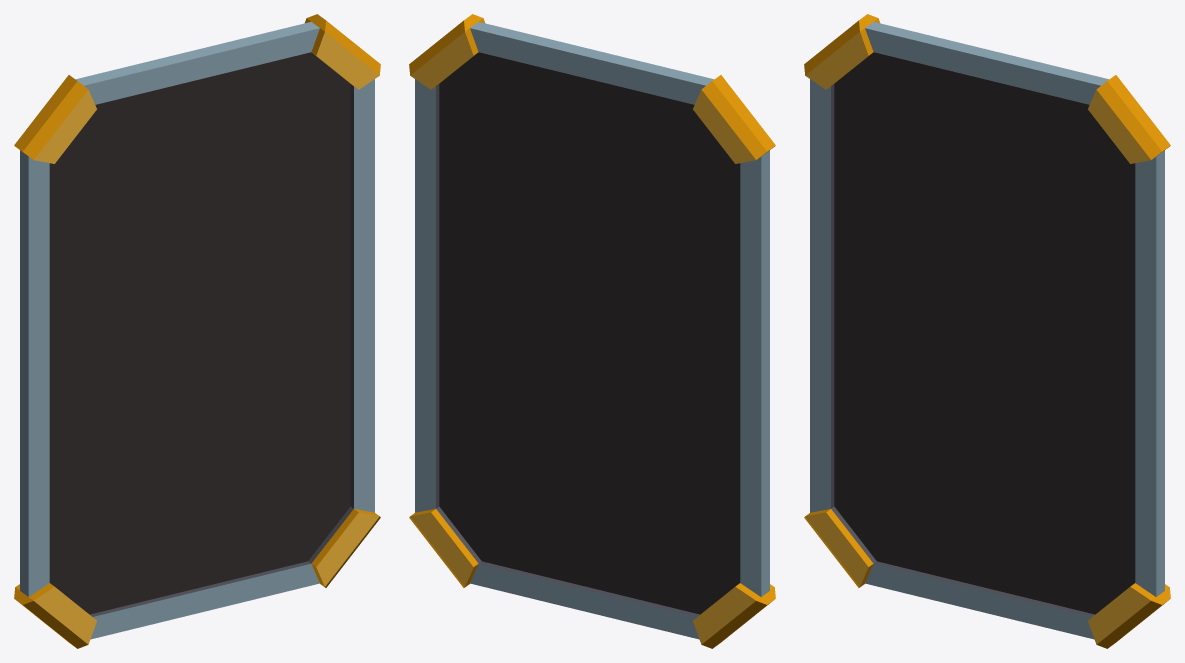
File: QR_SciFi_Frame.glb
3 views of the same model, side by side, from view 1: azimuth 30°, elevation 25°; view 2: azimuth 150°, elevation 25°; view 3: azimuth 330°, elevation 25° (orthographic).
Visible parts, largest first — view 1: QR_SciFi_Frame; view 2: QR_SciFi_Frame; view 3: QR_SciFi_Frame.
Boxes of the visible parts, <box> form: QR_SciFi_Frame: <box>14,14,380,648</box>; QR_SciFi_Frame: <box>409,14,775,648</box>; QR_SciFi_Frame: <box>804,14,1170,648</box>.
Size of what is drawn, in the model's own units: 1 by 1.52 by 0.0899.
1 material, 1 textured.
